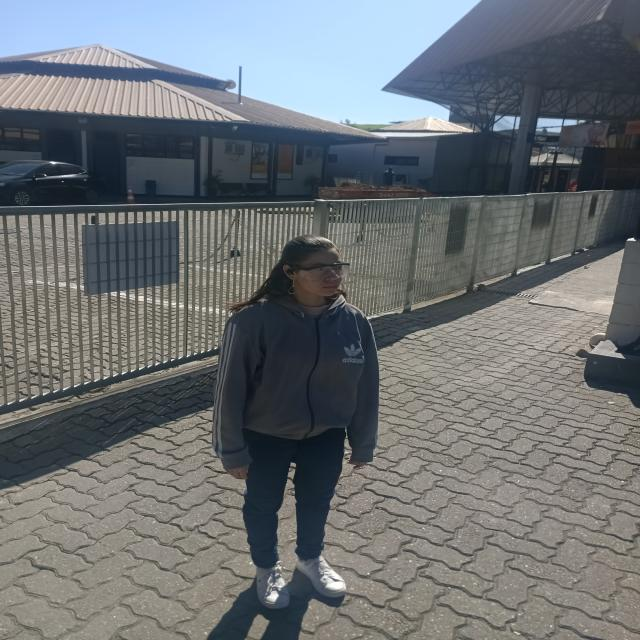oculos-epi: (288, 263, 350, 280)
